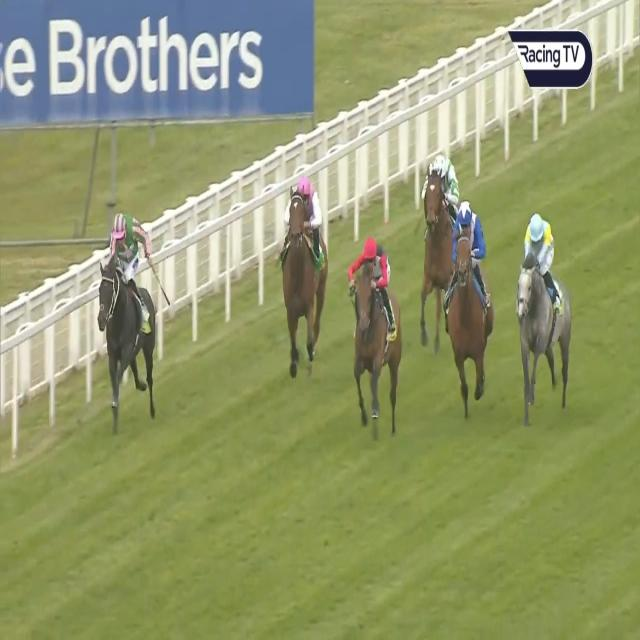horses-racing: (92, 205, 166, 420), (514, 212, 575, 415), (444, 198, 489, 413), (349, 230, 400, 418), (280, 179, 328, 372), (413, 147, 457, 312)
